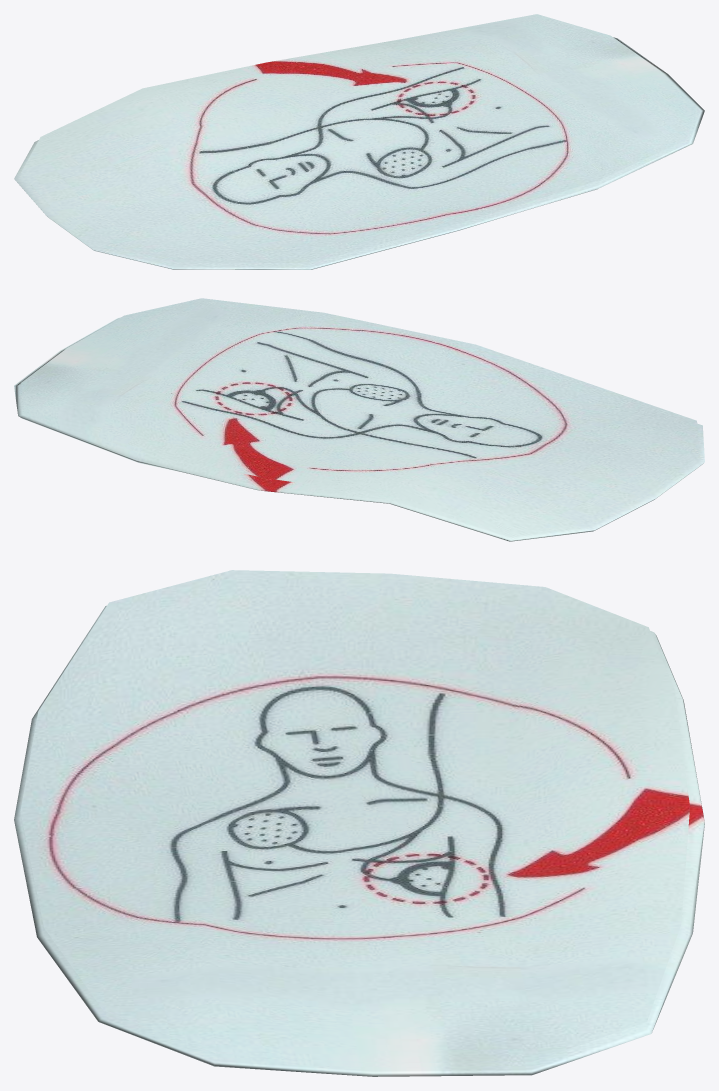
Rendered from Dea_Parche_Costado.fbx.
The picture shows the model from 3 angles, top to bottom: view 1: azimuth 30°, elevation 25°; view 2: azimuth 150°, elevation 25°; view 3: azimuth 270°, elevation 25°; orthographic projection. The views are drawn at different scales.
Visible parts, largest first — view 1: Cube.009; view 2: Cube.009; view 3: Cube.009.
Boxes of the visible parts, bbox=[...] form: Cube.009: bbox=[14, 14, 704, 269]; Cube.009: bbox=[14, 298, 704, 541]; Cube.009: bbox=[14, 570, 704, 1076].
Bounding box in the file's own units: 0.1306 × 0.00702 × 0.077.
1 material, 1 textured.
